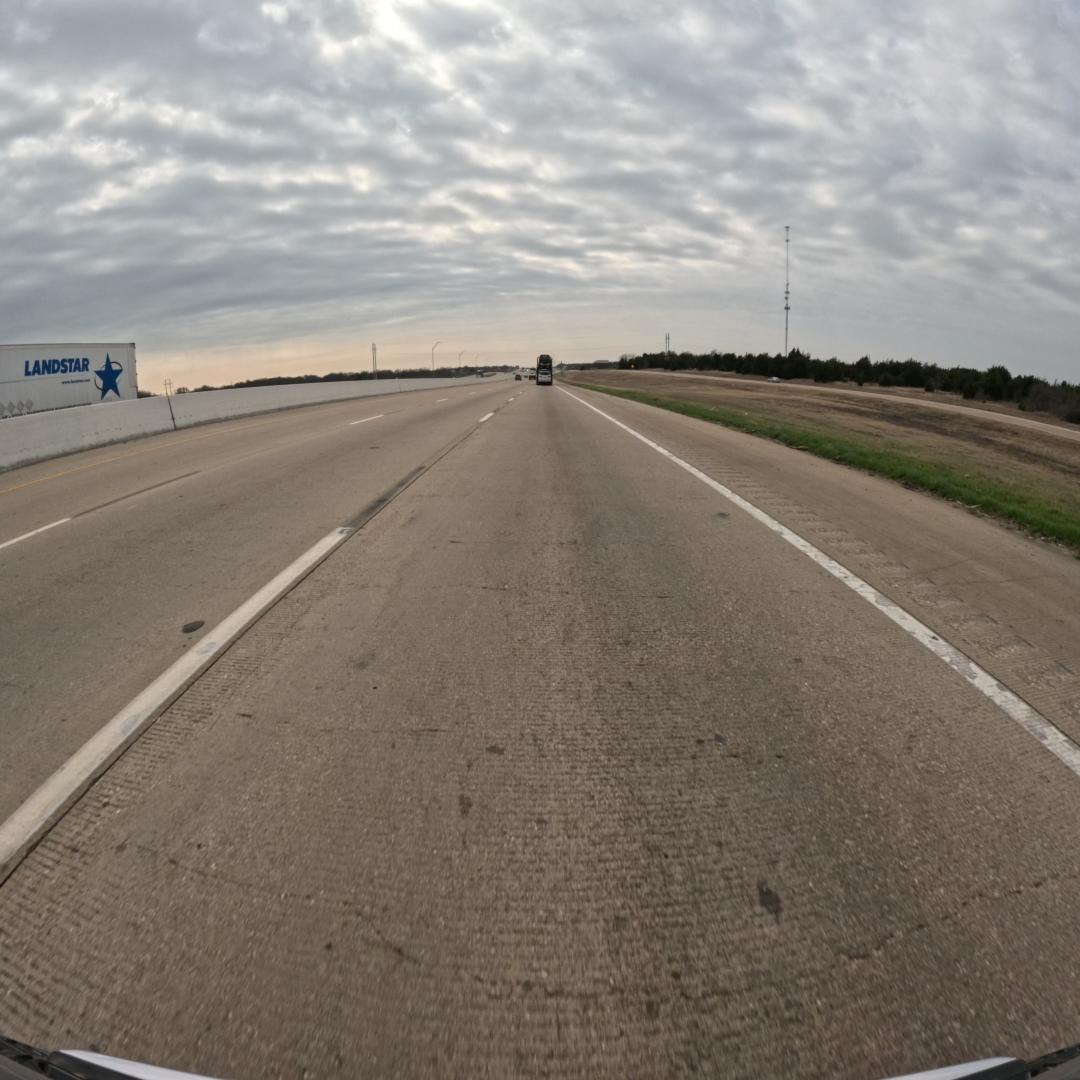lane0: (0, 387, 1080, 1077)
lane1: (0, 386, 518, 882)
